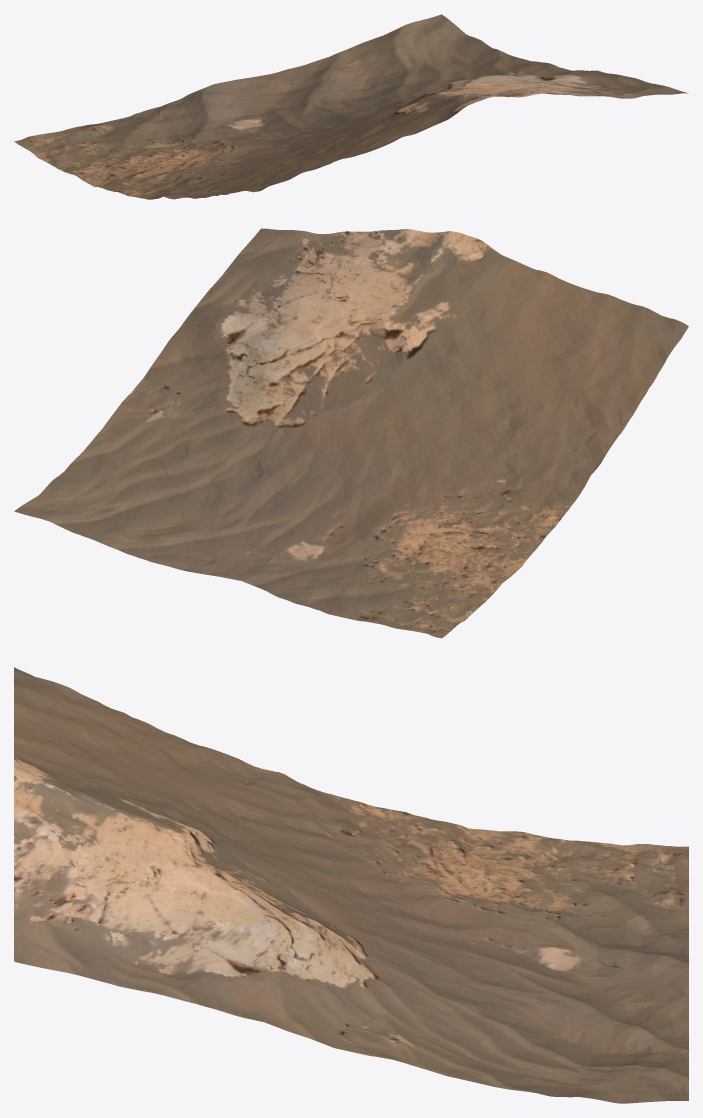
3 views of the same model, one above another, from view 1: azimuth 30°, elevation 25°; view 2: azimuth 150°, elevation 25°; view 3: azimuth 270°, elevation 25° (orthographic). The views are drawn at different scales.
Size of the model in its own units: 1.04 by 0.402 by 1.04.
2 materials, 2 textured.
